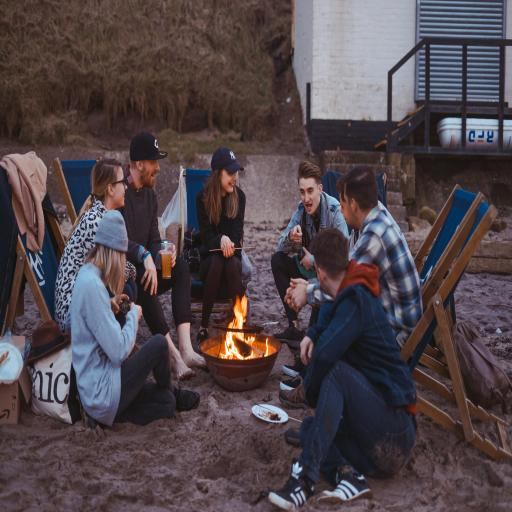campfire: (205, 291, 279, 399)
